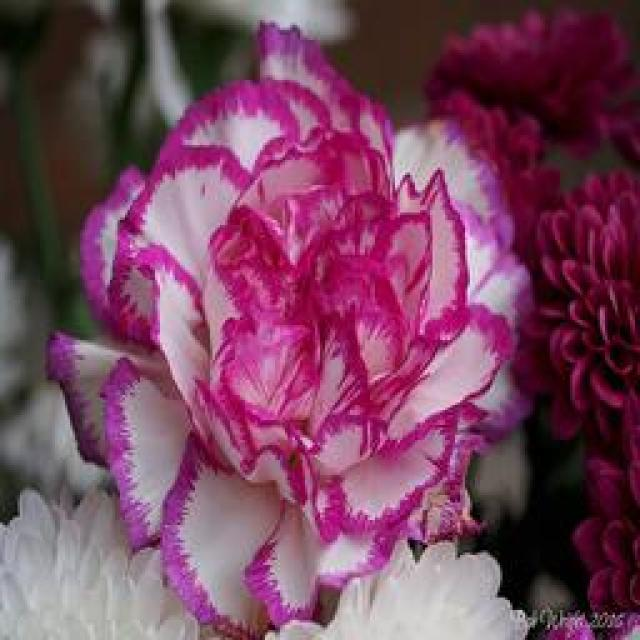carnation: (46, 29, 541, 601)
